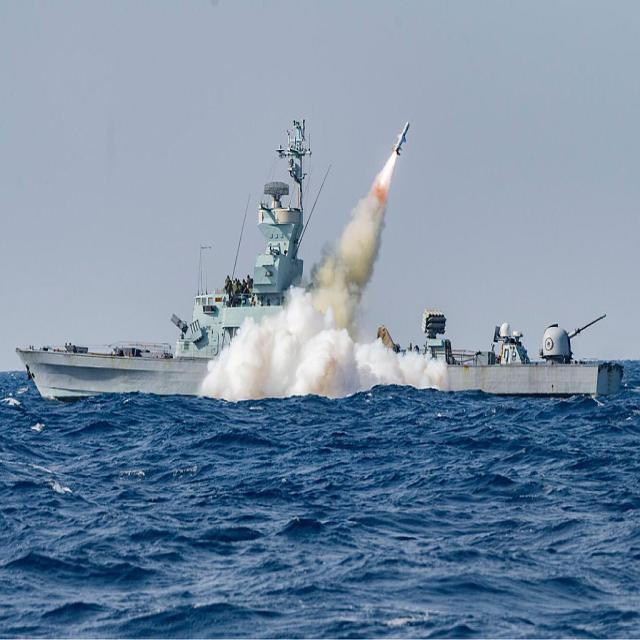navalvessels: (7, 110, 624, 404)
